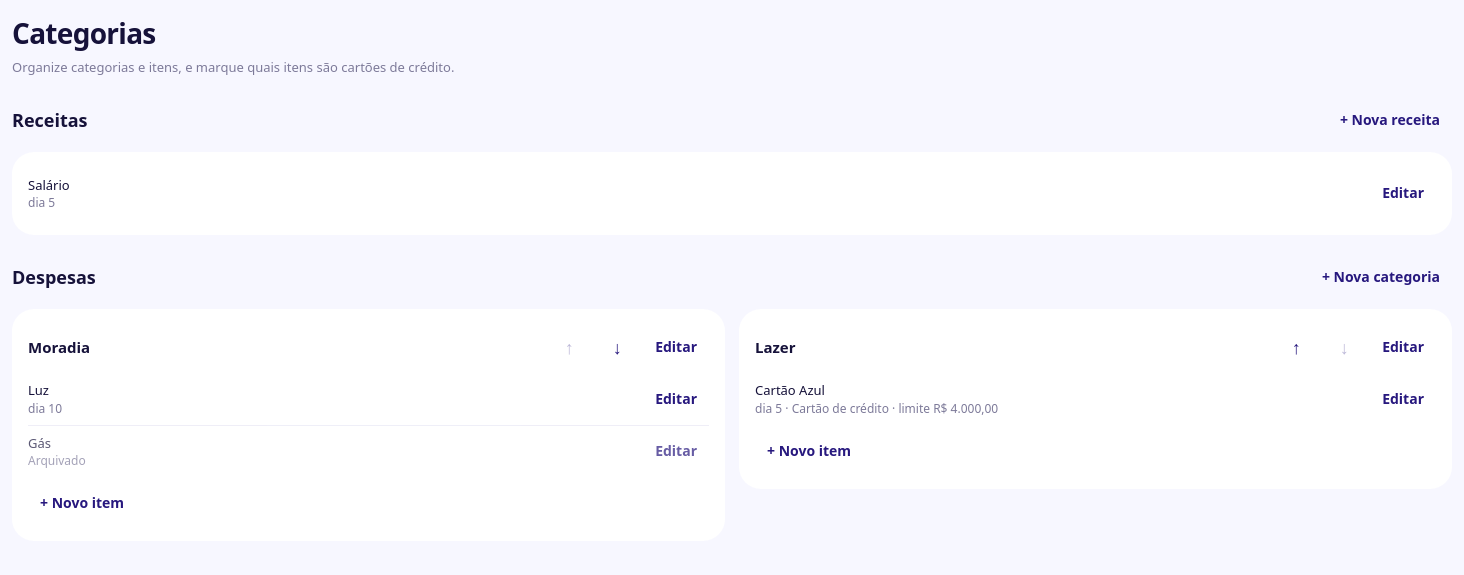
Test case: CategoriasPage › erro_ao_reordenar_mostra_a_mensagem
The width and height of the screenshot is (1464, 575).
Step 1. Click the button named "Subir categoria Lazer" → point(1296, 347), box [1274,325,1318,369]
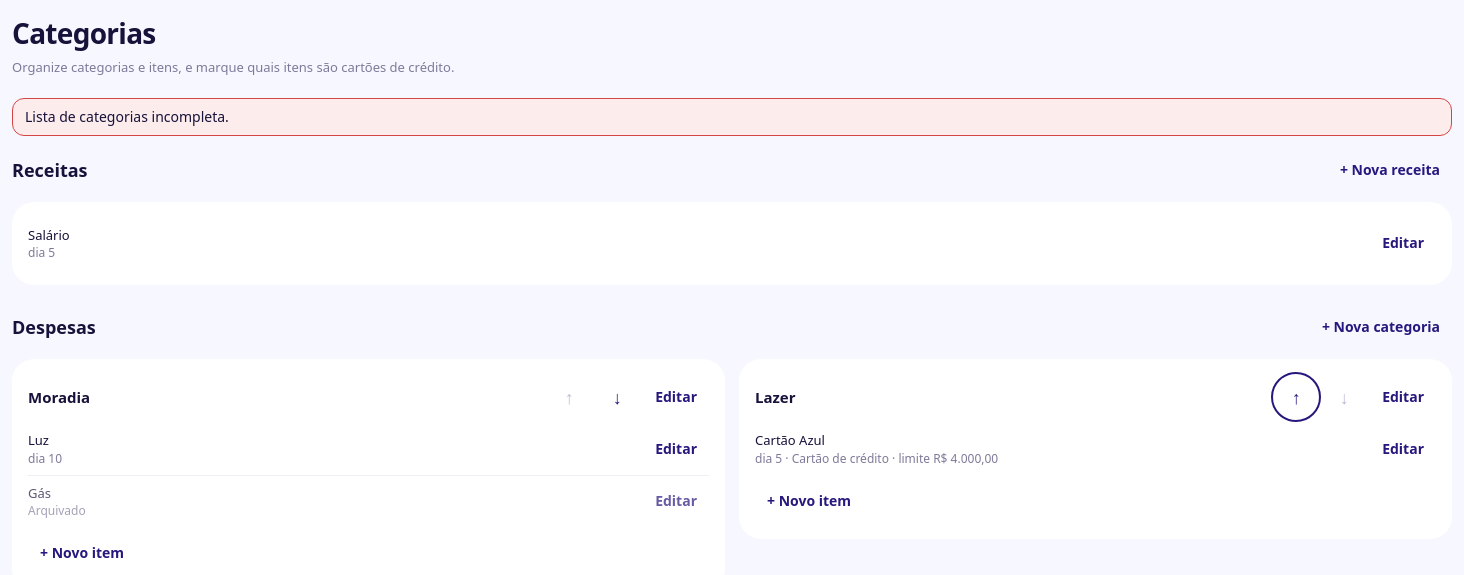
Result: the message reads "Lista de categorias incompleta." at [25,106,229,126]
